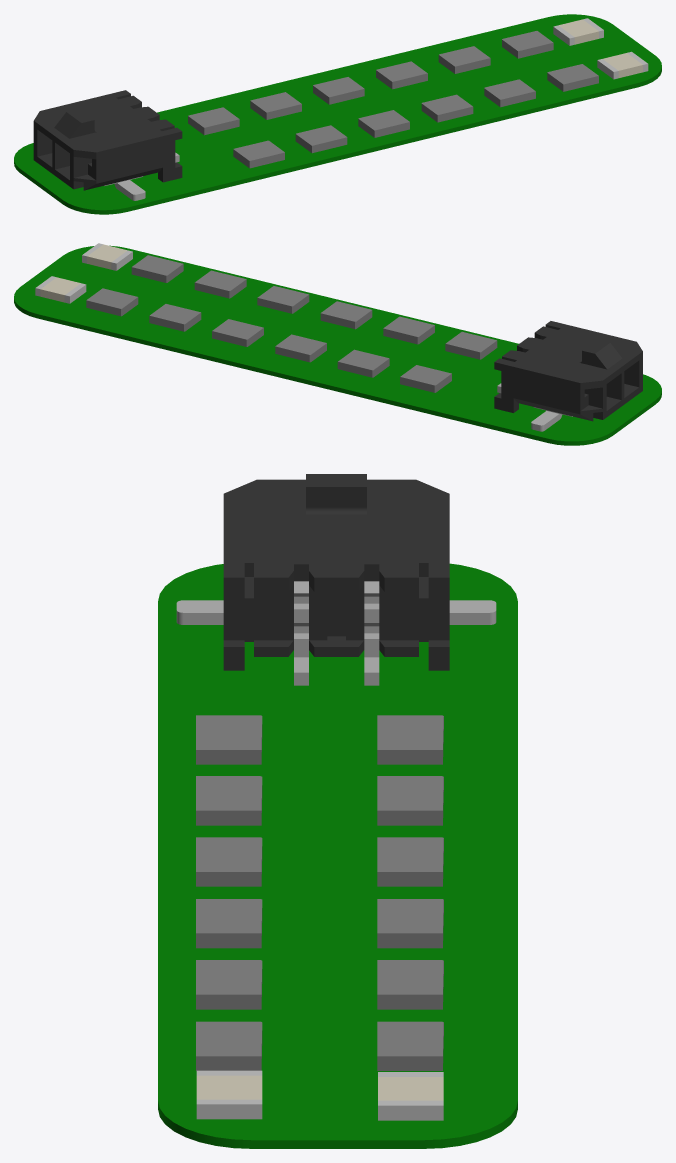
The picture shows the model from 3 angles, top to bottom: view 1: azimuth 30°, elevation 25°; view 2: azimuth 150°, elevation 25°; view 3: azimuth 270°, elevation 25°; orthographic projection. The views are drawn at different scales.
Parts seen in each view (by area): view 1: Open CASCADE STEP translator 7.5 1.1.1, PCB, Extruded008, Extruded010, Extruded013, Extruded012, Extruded014, Extruded016, Extruded007, Extruded009, Extruded015, Extruded017 (+5 smaller); view 2: Open CASCADE STEP translator 7.5 1.1.1, PCB, Extruded008, Extruded006, Extruded012, Extruded007, Extruded011, Extruded016, Extruded009, Extruded013, Extruded010, Extruded014 (+5 smaller); view 3: Open CASCADE STEP translator 7.5 1.1.1, PCB, Extruded013, Extruded014, Extruded015, Extruded016, Extruded012, Extruded017, Extruded008, Extruded006, Extruded007, Extruded009 (+10 smaller).
Part boxes in pixels (x1=…): Open CASCADE STEP translator 7.5 1.1.1: x1=14, y1=14, x2=661, y2=214; PCB: x1=33, y1=90, x2=182, y2=190; Extruded008: x1=421, y1=94, x2=473, y2=122; Extruded010: x1=295, y1=125, x2=347, y2=153; Extruded013: x1=438, y1=46, x2=490, y2=73; Extruded012: x1=502, y1=31, x2=553, y2=58; Extruded014: x1=376, y1=61, x2=427, y2=89; Extruded016: x1=250, y1=92, x2=301, y2=119; Extruded007: x1=484, y1=79, x2=535, y2=107; Extruded009: x1=358, y1=110, x2=409, y2=137; Extruded015: x1=313, y1=77, x2=364, y2=104; Extruded017: x1=188, y1=107, x2=239, y2=135; Open CASCADE STEP translator 7.5 1.1.1: x1=14, y1=245, x2=661, y2=445; PCB: x1=494, y1=321, x2=642, y2=421; Extruded008: x1=257, y1=286, x2=309, y2=313; Extruded006: x1=131, y1=255, x2=183, y2=282; Extruded012: x1=86, y1=288, x2=138, y2=316; Extruded007: x1=194, y1=270, x2=246, y2=298; Extruded011: x1=445, y1=331, x2=497, y2=359; Extruded016: x1=337, y1=349, x2=389, y2=377; Extruded009: x1=320, y1=301, x2=372, y2=329; Extruded013: x1=149, y1=304, x2=201, y2=331; Extruded010: x1=383, y1=316, x2=434, y2=344; Extruded014: x1=212, y1=319, x2=263, y2=346; Open CASCADE STEP translator 7.5 1.1.1: x1=158, y1=563, x2=517, y2=1148; PCB: x1=223, y1=474, x2=449, y2=670; Extruded013: x1=377, y1=960, x2=443, y2=1009; Extruded014: x1=377, y1=899, x2=443, y2=948; Extruded015: x1=377, y1=837, x2=443, y2=886; Extruded016: x1=377, y1=776, x2=443, y2=825; Extruded012: x1=377, y1=1021, x2=443, y2=1070; Extruded017: x1=377, y1=715, x2=443, y2=764; Extruded008: x1=196, y1=899, x2=262, y2=948; Extruded006: x1=196, y1=1021, x2=262, y2=1070; Extruded007: x1=196, y1=960, x2=262, y2=1009; Extruded009: x1=196, y1=837, x2=262, y2=886.
Size of the model in its own units: 0.0584 by 0.00602 by 0.0154.
